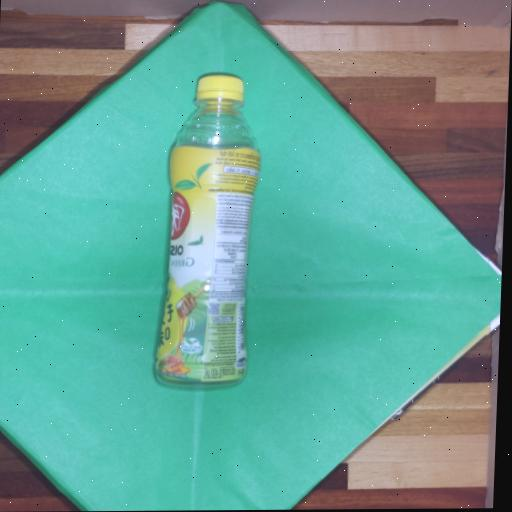bottle: (155, 74, 258, 384)
